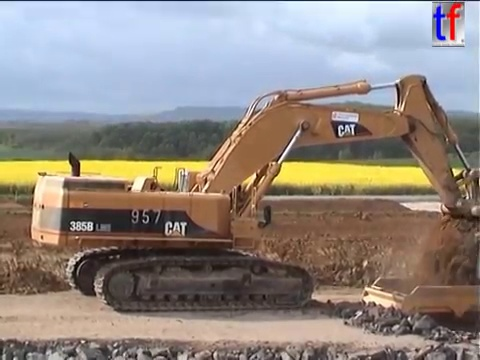excavator: (27, 70, 479, 315)
truck: (357, 273, 480, 360)
